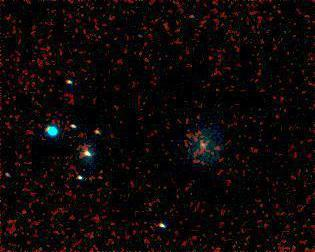star: (203, 134, 233, 164)
